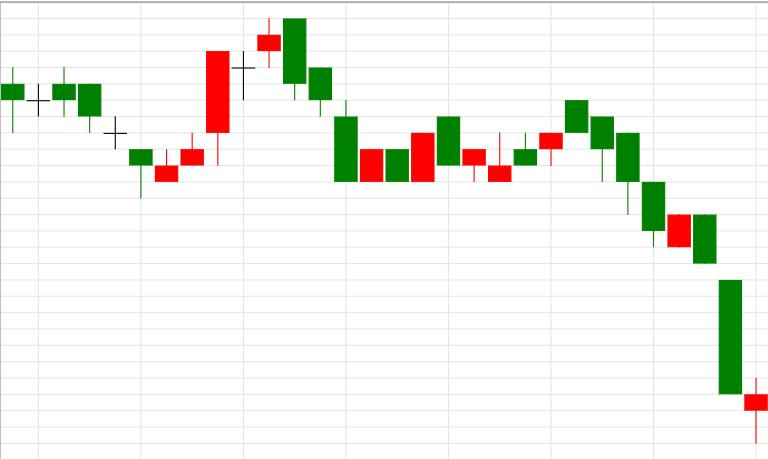bearish_engulfing_fall: (154, 18, 306, 183)
